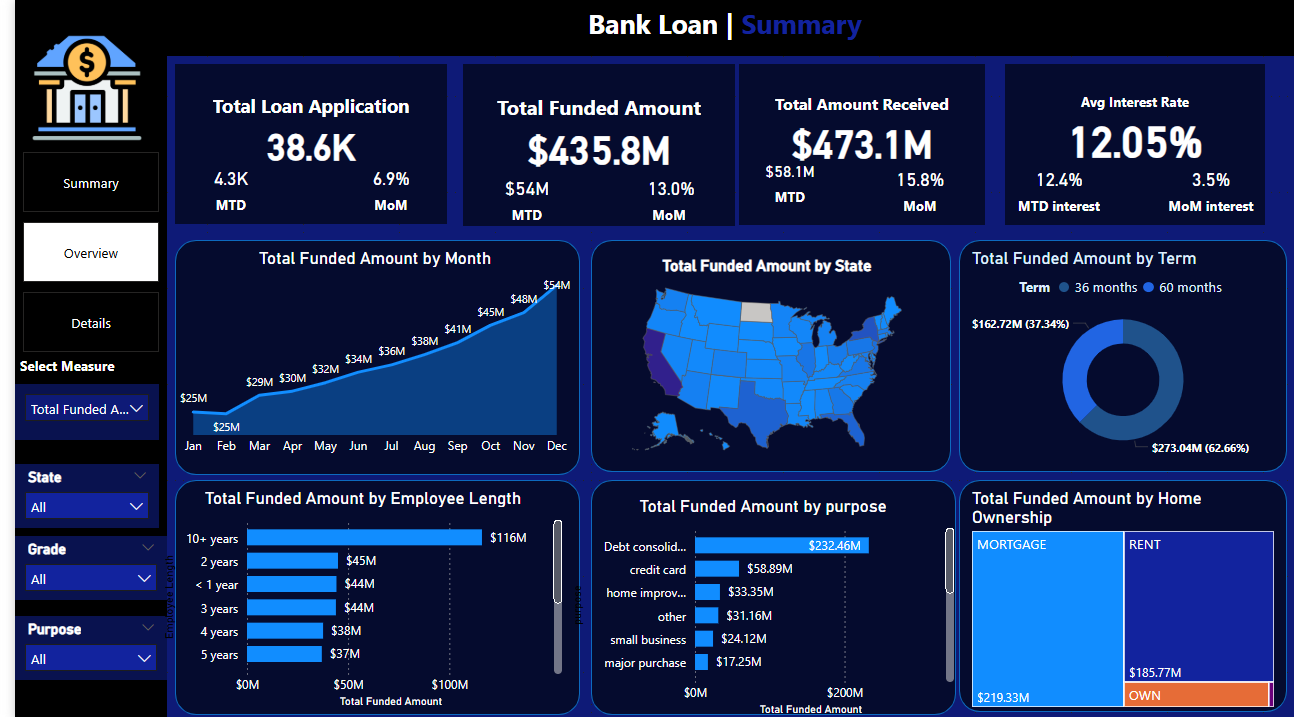

What the dashboard file says about the page in this screenshot:
{"tool":"powerbi","page":{"name":"Overview","canvas":[1280,720],"ordinal":1},"visuals":[{"type":"shape","box":[0,48,152,672],"z":0,"group":"g9"},{"type":"cardVisual","fields":{"Data":["financial_loan.Total Loan Application"]},"box":[160,64,272,160],"z":0,"group":"g4"},{"type":"cardVisual","fields":{"Data":["financial_loan.Toal Funded Amount"]},"box":[448,64,272,162.5],"z":0,"group":"g5"},{"type":"cardVisual","fields":{"Data":["financial_loan.Total Amount Received"]},"box":[724.2,64,246.1,161.3],"z":0,"group":"g3"},{"type":"cardVisual","fields":{"Data":["financial_loan.Avg Interest Rate"]},"box":[990.5,64,259,161.3],"z":0,"group":"g6"},{"type":"shape","box":[160,240,405,235],"z":0,"group":"g8"},{"type":"shape","box":[576,240,360,232],"z":0},{"type":"shape","box":[160,480,405,235],"z":0,"group":"g11"},{"type":"shape","box":[576,480,364.5,235],"z":0,"group":"g12"},{"type":"card","fields":{"Values":["financial_loan.good loan %"]},"box":[0,40,576,112],"z":1000},{"type":"card","fields":{"Values":["financial_loan.MTD received"]},"box":[688,137.3,173.7,88],"z":1000,"group":"g3"},{"type":"card","fields":{"Values":["financial_loan.MTD Loan Application"]},"box":[128,151.3,176,72.7],"z":1000,"group":"g4"},{"type":"card","fields":{"Values":["financial_loan.MTD interest"]},"box":[960,152,167.6,73.3],"z":1000,"group":"g6"},{"type":"card","fields":{"Values":["financial_loan.MTD fund"]},"box":[416,152.6,192,88.6],"z":1000,"group":"g5"},{"type":"slicer","fields":{"Values":["financial_loan.address_state"]},"box":[0,464,144,64],"z":1000,"group":"g9"},{"type":"shape","box":[0,0,1280,56],"z":2000,"group":"g10"},{"type":"group","id":"g1","title":"Group 1","box":[128,64,336,160],"z":2000},{"type":"card","fields":{"Values":["financial_loan.MoM received"]},"box":[818.3,137.3,173.7,102.7],"z":2000,"group":"g3"},{"type":"card","fields":{"Values":["financial_loan.MoM fund"]},"box":[560,137.8,192,118.2],"z":2000,"group":"g5"},{"type":"card","fields":{"Values":["financial_loan.MoM Loan Application"]},"box":[288,151.3,176,72.7],"z":2000,"group":"g4"},{"type":"card","fields":{"Values":["financial_loan.MoM interest"]},"box":[1112.4,152,167.6,73.3],"z":2000,"group":"g6"},{"type":"slicer","fields":{"Values":["financial_loan.grade"]},"box":[0,536,152,64],"z":2000,"group":"g9"},{"type":"group","id":"g2","title":"Group 1","box":[416,64,336,192],"z":3000},{"type":"slicer","fields":{"Values":["financial_loan.Good vs Bad"]},"box":[0,616,152,64],"z":3000,"group":"g9"},{"type":"group","id":"g3","title":"Group 1","box":[688,64,304,176],"z":4000},{"type":"group","id":"g4","title":"Group 3","box":[128,64,336,160],"z":4002,"group":"g1"},{"type":"group","id":"g5","title":"Group 2","box":[416,64,336,192],"z":4002,"group":"g2"},{"type":"group","id":"g6","title":"Group 3","box":[960,64,320,161.3],"z":4002,"group":"g7"},{"type":"textbox","box":[568,0,712,48],"z":5000,"group":"g10"},{"type":"group","id":"g7","title":"Group 1","box":[960,64,320,176],"z":5000},{"type":"group","id":"g8","title":"Group 4","box":[160,240,405,235],"z":6000},{"type":"group","id":"g9","title":"Group 6","box":[0,48,152,672],"z":7000},{"type":"group","id":"g10","title":"Group 7","box":[0,0,1280,56],"z":8000},{"type":"areaChart","fields":{"Y":["financial_loan.Total Funded Amount"],"Category":["Date Table.Month"]},"box":[160,248,400,216],"z":9000},{"type":"slicer","fields":{"Values":["Select Measure.Select Measure"]},"box":[0,384,144,56],"z":10000},{"type":"textbox","box":[0,352,144,32],"z":11000},{"type":"shapeMap","fields":{"Value":["financial_loan.Total Funded Amount"],"Category":["financial_loan.address_state"]},"box":[576,256,352,208],"z":12000},{"type":"shape","box":[944,240,328,232],"z":13000},{"type":"donutChart","fields":{"Y":["financial_loan.Total Funded Amount"],"Category":["financial_loan.term"]},"box":[952,248,312,216],"z":14000},{"type":"group","id":"g11","title":"Group 4","box":[160,480,400,232],"z":15000},{"type":"barChart","fields":{"Y":["financial_loan.Total Funded Amount"],"Category":["financial_loan.emp_length"]},"box":[144,488,408,224],"z":16000},{"type":"group","id":"g12","title":"Group 4","box":[576,480,360,232],"z":17000},{"type":"barChart","fields":{"Y":["financial_loan.Total Funded Amount"],"Category":["financial_loan.purpose"]},"box":[552,496,392,224],"z":18000},{"type":"shape","box":[944,480,328,232],"z":19000},{"type":"treemap","fields":{"Values":["financial_loan.Total Funded Amount"],"Group":["financial_loan.home_ownership"]},"box":[952,488,312,224],"z":20000},{"type":"pageNavigator","box":[8,152,136,200],"z":20001},{"type":"image","box":[0,24,144,128],"z":20002}]}

Visuals, with their boxes on the page's 1280x720 design canvas (x1, y1, x2, y2). These are canvas units, not pixel positions in the 1294x717 screenshot, which may show the page scaled, cropped or inside an application window:
shape: region(0, 48, 152, 720)
cardVisual - financial_loan.Total Loan Application: region(160, 64, 432, 224)
cardVisual - financial_loan.Toal Funded Amount: region(448, 64, 720, 226)
cardVisual - financial_loan.Total Amount Received: region(724, 64, 970, 225)
cardVisual - financial_loan.Avg Interest Rate: region(990, 64, 1250, 225)
shape: region(160, 240, 565, 475)
shape: region(576, 240, 936, 472)
shape: region(160, 480, 565, 715)
shape: region(576, 480, 940, 715)
card - financial_loan.good loan %: region(0, 40, 576, 152)
card - financial_loan.MTD received: region(688, 137, 862, 225)
card - financial_loan.MTD Loan Application: region(128, 151, 304, 224)
card - financial_loan.MTD interest: region(960, 152, 1128, 225)
card - financial_loan.MTD fund: region(416, 153, 608, 241)
slicer - financial_loan.address_state: region(0, 464, 144, 528)
shape: region(0, 0, 1280, 56)
"Group 1" group: region(128, 64, 464, 224)
card - financial_loan.MoM received: region(818, 137, 992, 240)
card - financial_loan.MoM fund: region(560, 138, 752, 256)
card - financial_loan.MoM Loan Application: region(288, 151, 464, 224)
card - financial_loan.MoM interest: region(1112, 152, 1280, 225)
slicer - financial_loan.grade: region(0, 536, 152, 600)
"Group 1" group: region(416, 64, 752, 256)
slicer - financial_loan.Good vs Bad: region(0, 616, 152, 680)
"Group 1" group: region(688, 64, 992, 240)
"Group 3" group: region(128, 64, 464, 224)
"Group 2" group: region(416, 64, 752, 256)
"Group 3" group: region(960, 64, 1280, 225)
textbox: region(568, 0, 1280, 48)
"Group 1" group: region(960, 64, 1280, 240)
"Group 4" group: region(160, 240, 565, 475)
"Group 6" group: region(0, 48, 152, 720)
"Group 7" group: region(0, 0, 1280, 56)
areaChart - financial_loan.Total Funded Amount x Date Table.Month: region(160, 248, 560, 464)
slicer - Select Measure.Select Measure: region(0, 384, 144, 440)
textbox: region(0, 352, 144, 384)
shapeMap - financial_loan.Total Funded Amount x financial_loan.address_state: region(576, 256, 928, 464)
shape: region(944, 240, 1272, 472)
donutChart - financial_loan.Total Funded Amount x financial_loan.term: region(952, 248, 1264, 464)
"Group 4" group: region(160, 480, 560, 712)
barChart - financial_loan.Total Funded Amount x financial_loan.emp_length: region(144, 488, 552, 712)
"Group 4" group: region(576, 480, 936, 712)
barChart - financial_loan.Total Funded Amount x financial_loan.purpose: region(552, 496, 944, 720)
shape: region(944, 480, 1272, 712)
treemap - financial_loan.Total Funded Amount x financial_loan.home_ownership: region(952, 488, 1264, 712)
pageNavigator: region(8, 152, 144, 352)
image: region(0, 24, 144, 152)
